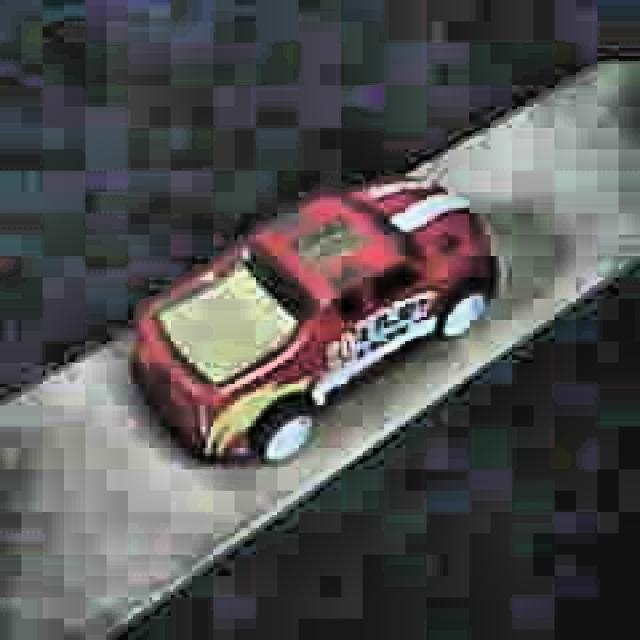car: (130, 173, 500, 470)
